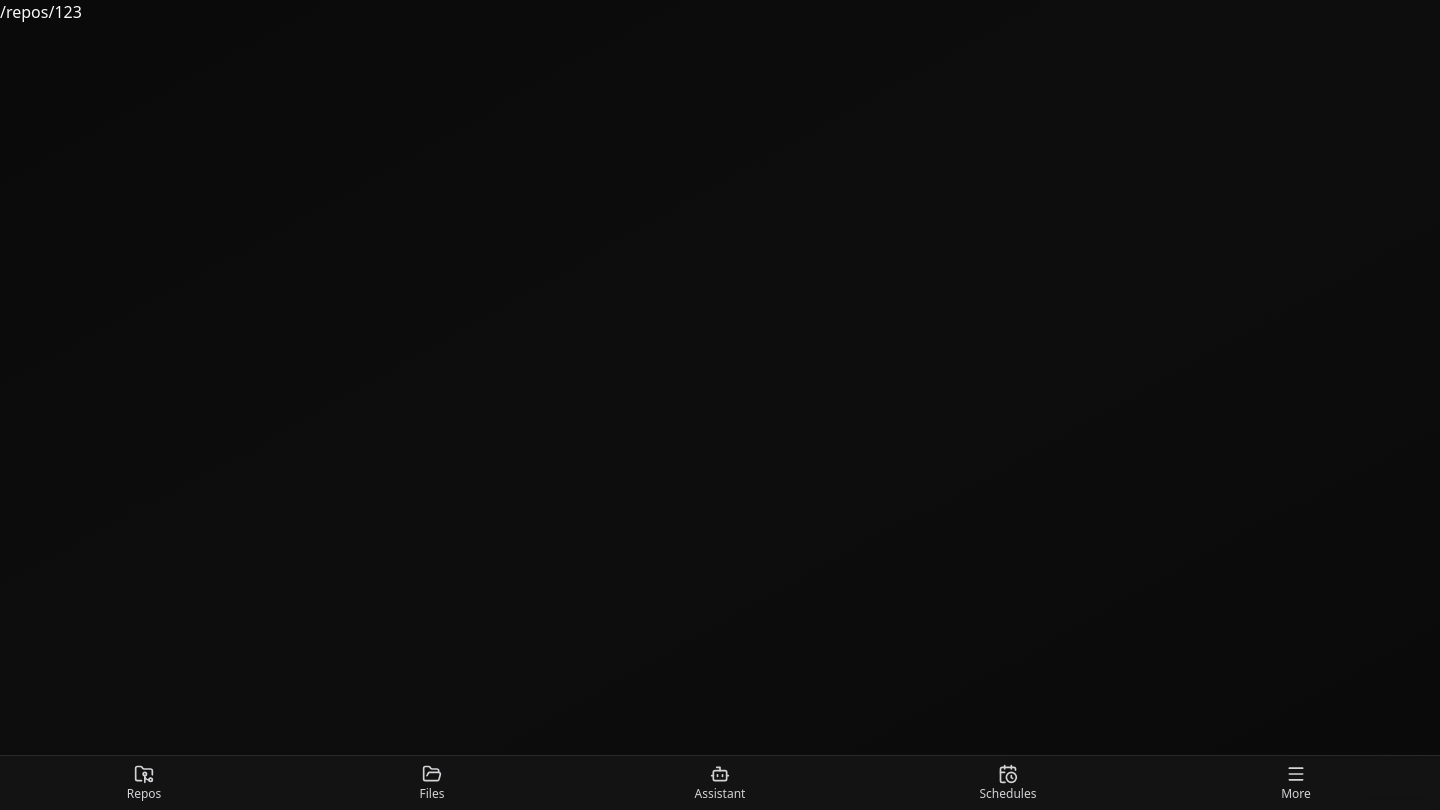
it: MobileTabBar › navigates to /assistant when assistant is clicked from repo context
The width and height of the screenshot is (1440, 810).
Step 1. Click the button "Assistant" → (720, 783), box [576, 756, 864, 809]
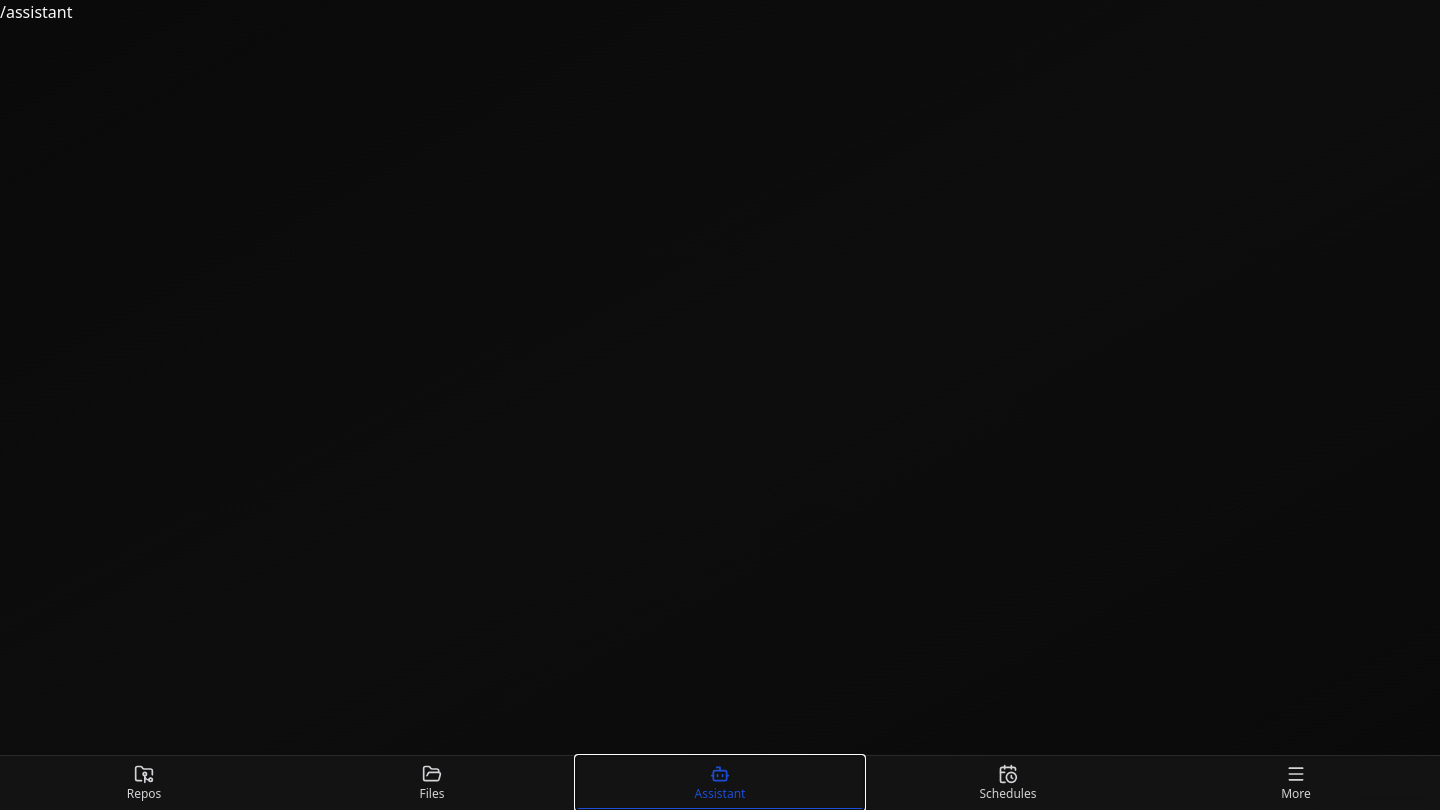
Now the text with test id "location" reads "/assistant", box [0, 1, 72, 23]
